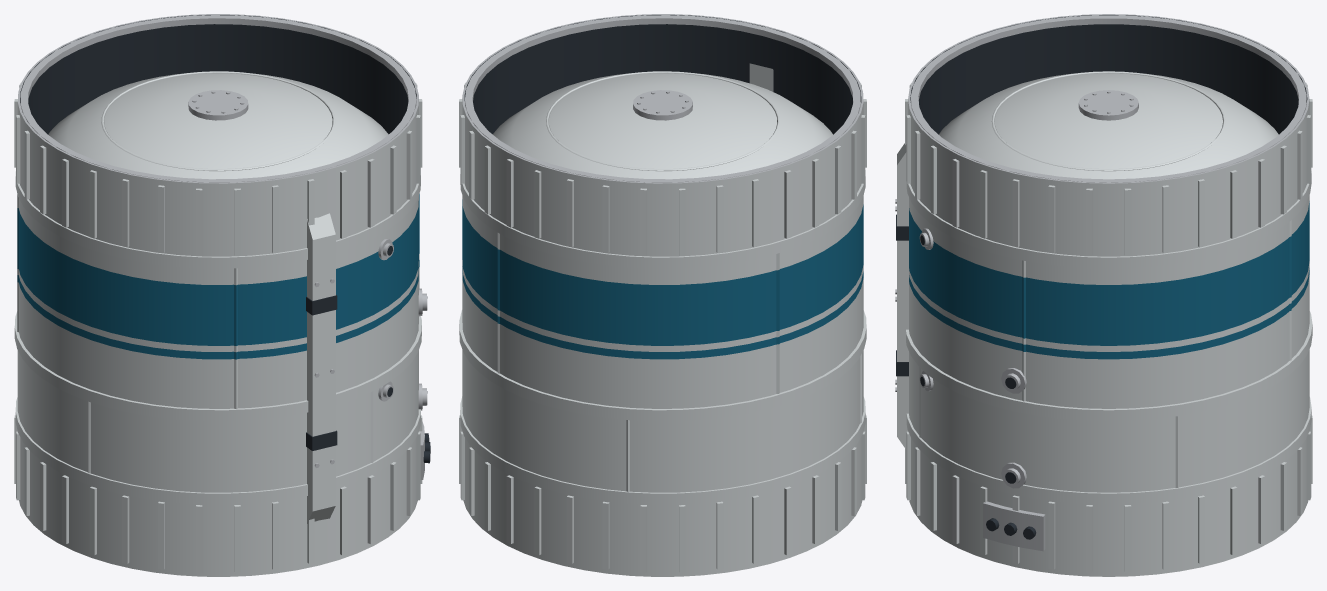
Rendered from tank_s2_s.glb.
3 renders of one model, left to right at view 1: azimuth 30°, elevation 25°; view 2: azimuth 150°, elevation 25°; view 3: azimuth 270°, elevation 25°, orthographic.
Visible parts, largest first — view 1: tank_s2_s_mesh; view 2: tank_s2_s_mesh; view 3: tank_s2_s_mesh.
Boxes of the visible parts, x1,y1,x2,y2 form: tank_s2_s_mesh: [14, 14, 430, 576]; tank_s2_s_mesh: [459, 14, 866, 576]; tank_s2_s_mesh: [895, 14, 1312, 576].
Bounding box in the file's own units: 3.76 × 4 × 3.85.
